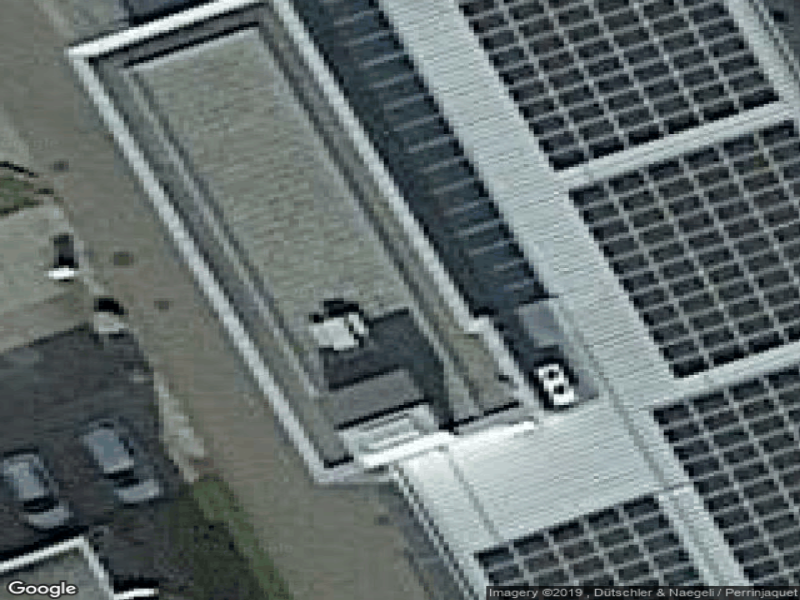pv: (566, 122, 800, 378), (458, 1, 780, 174), (648, 363, 800, 599), (478, 496, 710, 600)
